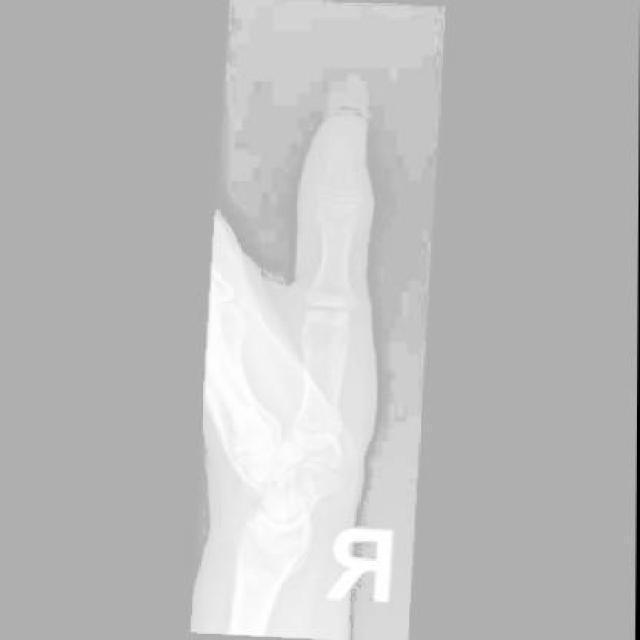Fracture: (351, 186, 368, 208)
